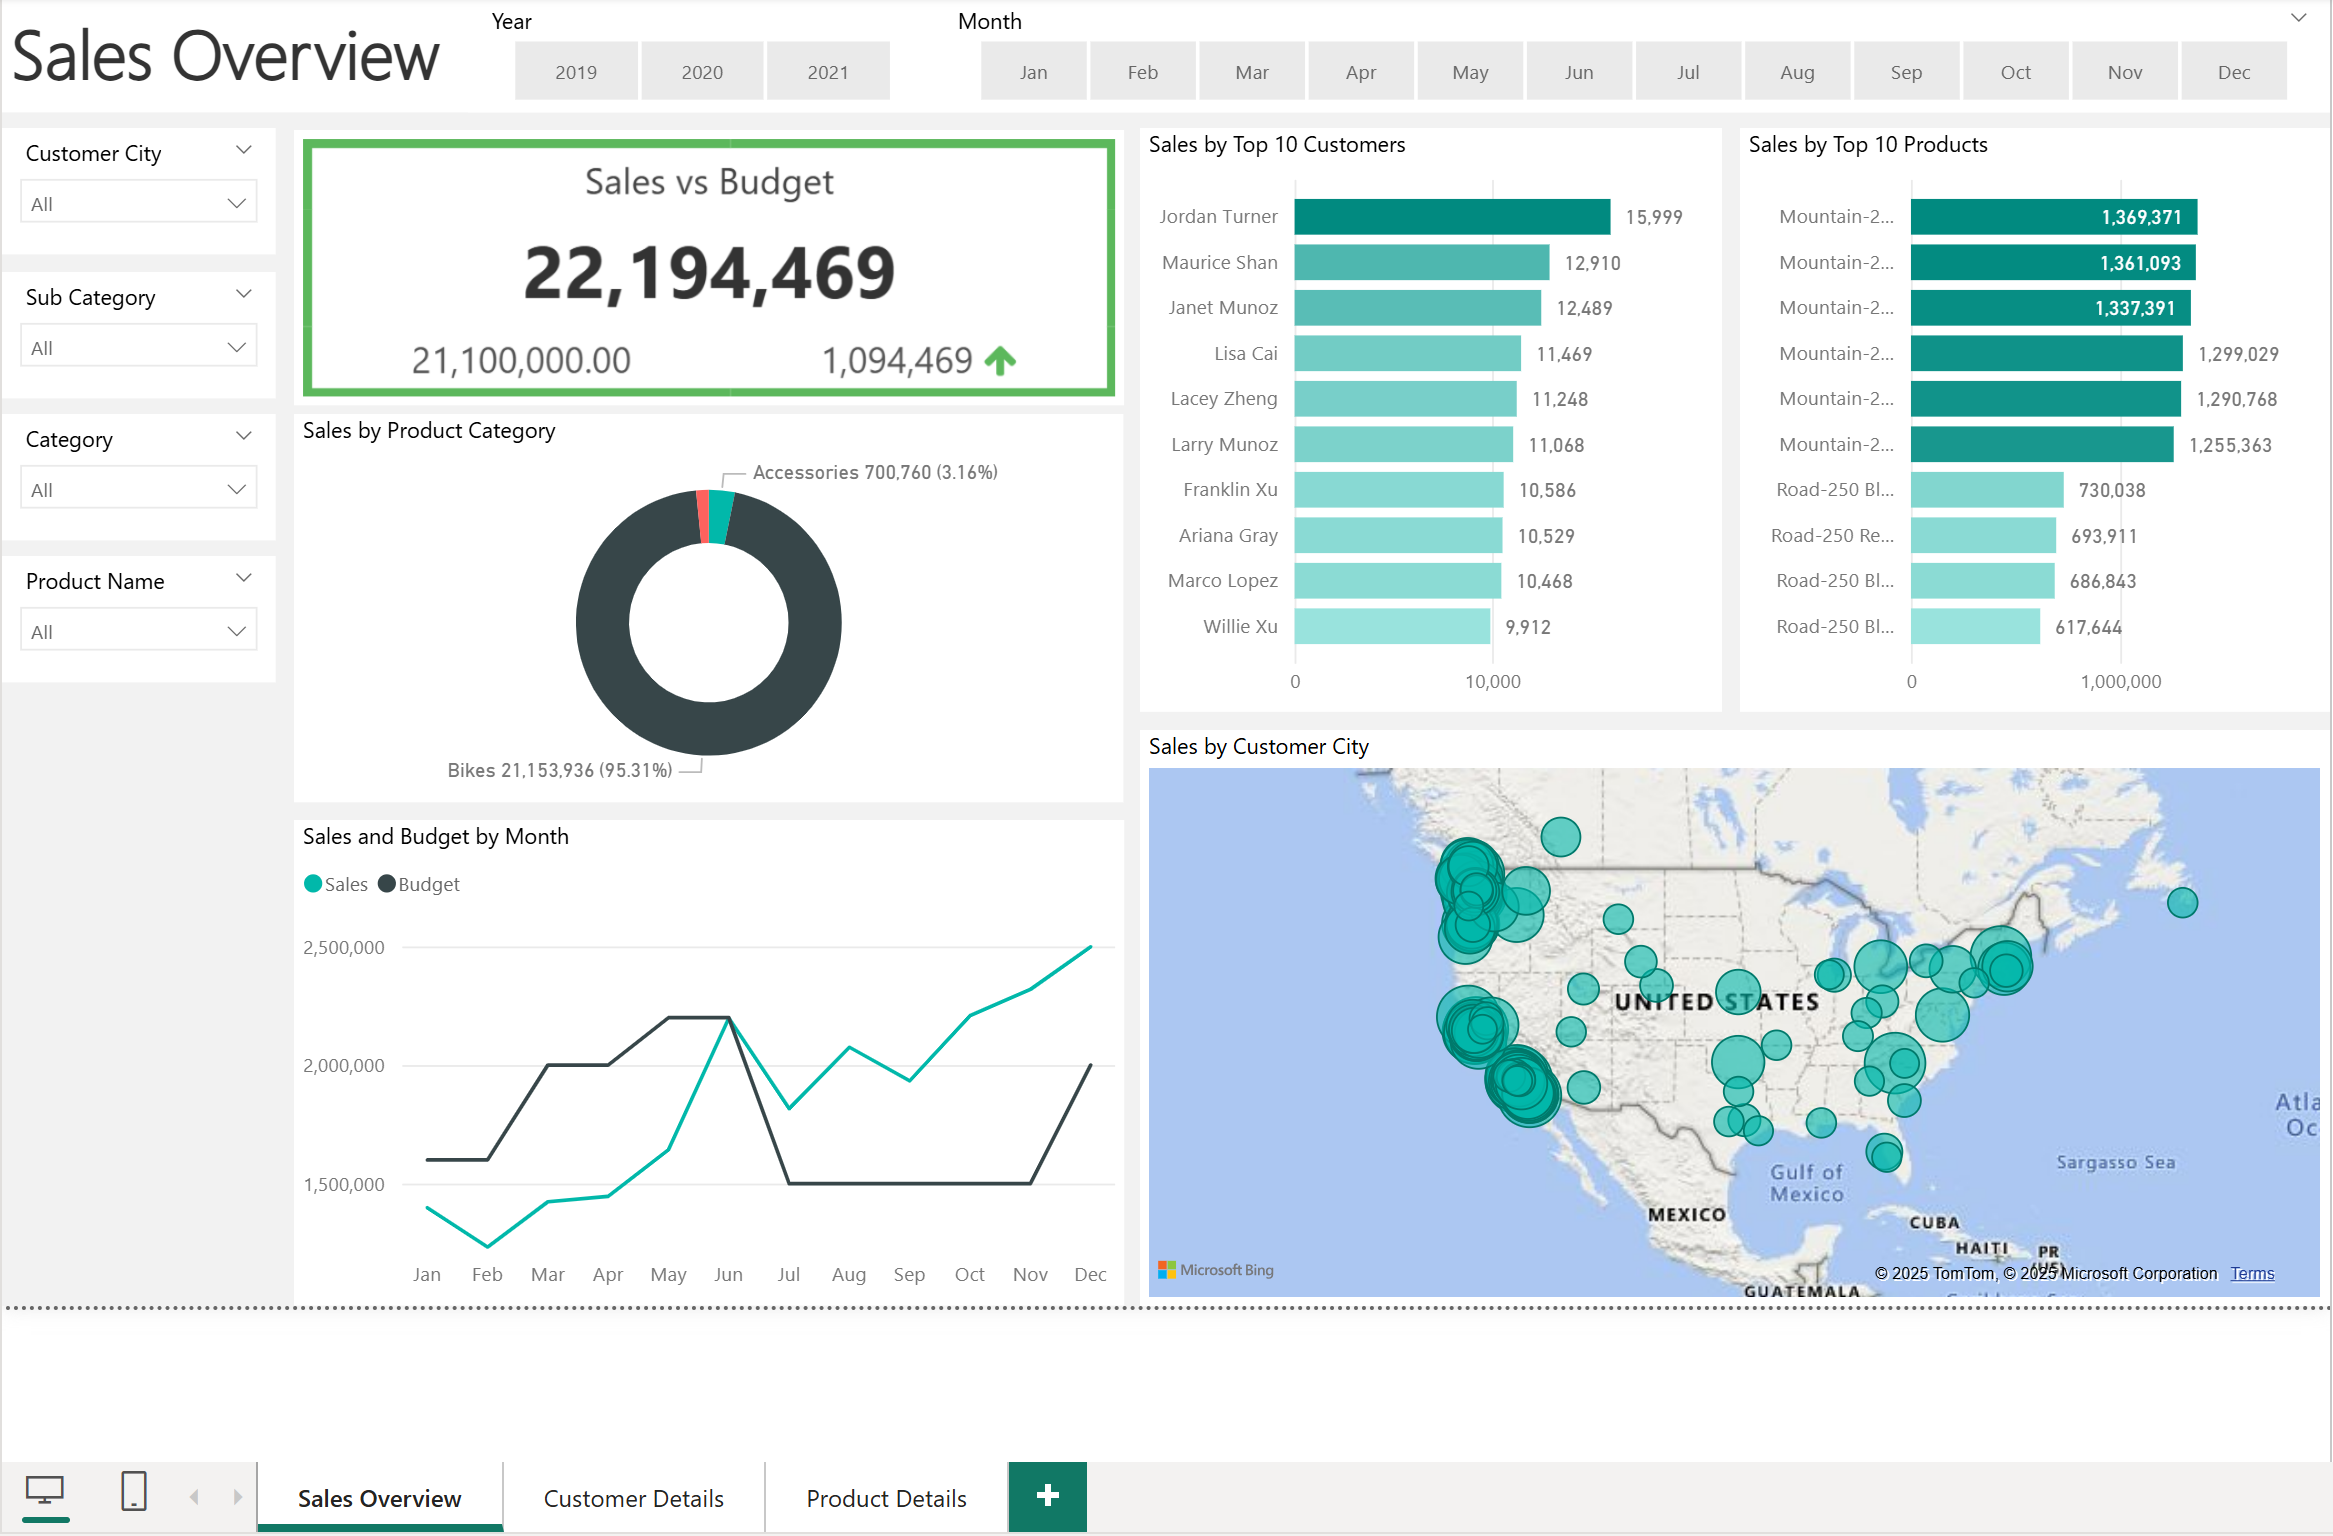

This screenshot's page, from the dashboard's own definition file:
{"tool":"powerbi","page":{"name":"Sales Overview","canvas":[1280,720],"ordinal":0},"visuals":[{"type":"textbox","box":[0,0,1280,64],"z":0},{"type":"slicer","fields":{"Values":["DIM_Calendar.Year"]},"box":[256,0,256,64],"z":1000},{"type":"slicer","fields":{"Values":["DIM_Calendar.MonthShort"]},"box":[512,0,768,64],"z":2000},{"type":"slicer","fields":{"Values":["DIM_Customers.Customer City"]},"box":[0,73,150.5,69.3],"z":3000},{"type":"slicer","fields":{"Values":["DIM_Products.Product Category"]},"box":[0,229.9,150.5,69.3],"z":4000},{"type":"slicer","fields":{"Values":["DIM_Products.Product Name"]},"box":[0,308.4,150.5,69.3],"z":5000},{"type":"slicer","fields":{"Values":["DIM_Products.Sub Category"]},"box":[0,151.4,150.5,69.3],"z":6000},{"type":"barChart","title":"Sales by Top 10 Products","fields":{"Category":["DIM_Products.Product Name"],"Y":["Analysis Metrics.Sales"]},"box":[955.2,73,324.8,321.1],"z":7000},{"type":"lineChart","fields":{"Category":["DIM_Calendar.MonthShort"],"Y":["Analysis Metrics.Sales","Sum(FACT_Budget.Budget)"]},"box":[160.7,452.8,456.3,267.2],"z":8000},{"type":"barChart","title":"Sales by Top 10 Customers","fields":{"Category":["DIM_Customers.Full Name"],"Y":["Analysis Metrics.Sales"]},"box":[625.9,73,320.2,321.1],"z":9000},{"type":"donutChart","fields":{"Y":["Analysis Metrics.Sales"],"Series":["DIM_Products.Product Category"]},"box":[160.6,229.9,456.2,213.5],"z":10000},{"type":"map","fields":{"Category":["DIM_Customers.Customer City"],"Size":["Analysis Metrics.Sales"]},"box":[625.9,403.3,654.1,316.6],"z":12000},{"type":"BBED0A4D4D8D44CE93CF2DAFADEE466C","fields":{"actual":["Analysis Metrics.Sales"],"target2":["Analysis Metrics.Sales / Budget"],"target1":["Analysis Metrics.Budget"]},"box":[160.5,73.4,456.6,151.3],"z":13001}]}

Visuals, with their boxes on the page's 1280x720 design canvas (x1, y1, x2, y2). These are canvas units, not pixel positions in the 2333x1536 screenshot, which may show the page scaled, cropped or inside an application window:
textbox: left=0, top=0, right=1280, bottom=64
slicer - DIM_Calendar.Year: left=256, top=0, right=512, bottom=64
slicer - DIM_Calendar.MonthShort: left=512, top=0, right=1280, bottom=64
slicer - DIM_Customers.Customer City: left=0, top=73, right=150, bottom=142
slicer - DIM_Products.Product Category: left=0, top=230, right=150, bottom=299
slicer - DIM_Products.Product Name: left=0, top=308, right=150, bottom=378
slicer - DIM_Products.Sub Category: left=0, top=151, right=150, bottom=221
"Sales by Top 10 Products" barChart: left=955, top=73, right=1280, bottom=394
lineChart - DIM_Calendar.MonthShort x Analysis Metrics.Sales: left=161, top=453, right=617, bottom=720
"Sales by Top 10 Customers" barChart: left=626, top=73, right=946, bottom=394
donutChart - Analysis Metrics.Sales x DIM_Products.Product Category: left=161, top=230, right=617, bottom=443
map - DIM_Customers.Customer City x Analysis Metrics.Sales: left=626, top=403, right=1280, bottom=720
BBED0A4D4D8D44CE93CF2DAFADEE466C - Analysis Metrics.Sales x Analysis Metrics.Sales / Budget: left=160, top=73, right=617, bottom=225
